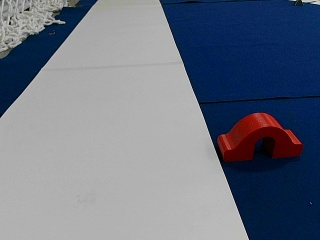bridge: (219, 113, 302, 159)
